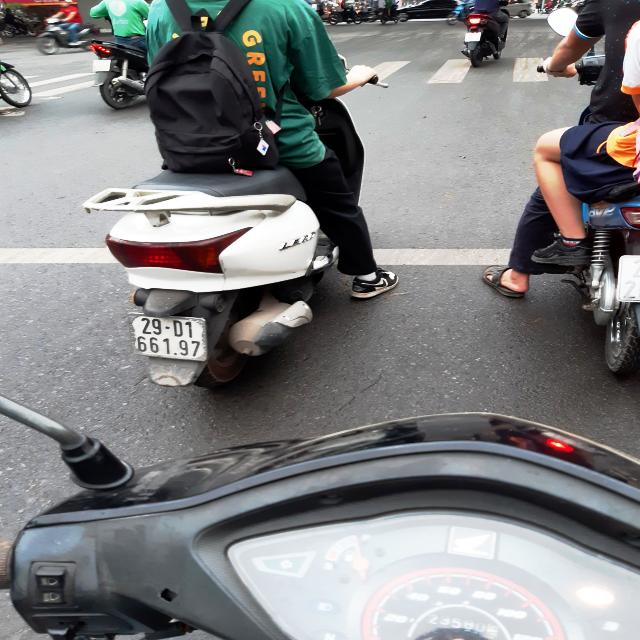license_plate: (127, 314, 208, 363)
